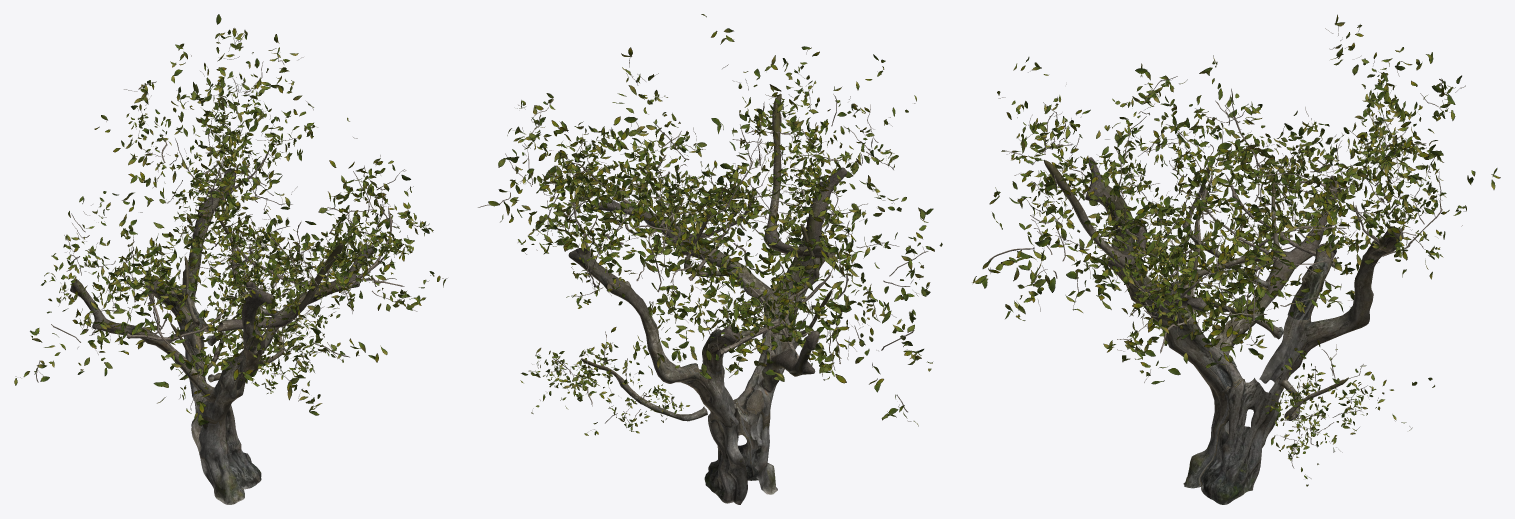
The model's file is island_tree_01.glb.
The picture shows the model from 3 angles, left to right: view 1: azimuth 30°, elevation 25°; view 2: azimuth 150°, elevation 25°; view 3: azimuth 270°, elevation 25°; orthographic projection. The views are drawn at different scales.
Visible parts, largest first — view 1: island_tree_01_LOD0; view 2: island_tree_01_LOD0; view 3: island_tree_01_LOD0.
Boxes of the visible parts, left/top/right/bottom form: island_tree_01_LOD0: left=14, top=14, right=447, bottom=504; island_tree_01_LOD0: left=478, top=14, right=942, bottom=504; island_tree_01_LOD0: left=972, top=14, right=1500, bottom=504.
Bounding box in the file's own units: 4.77 × 5.02 × 4.75.
3 materials, 3 textured.
